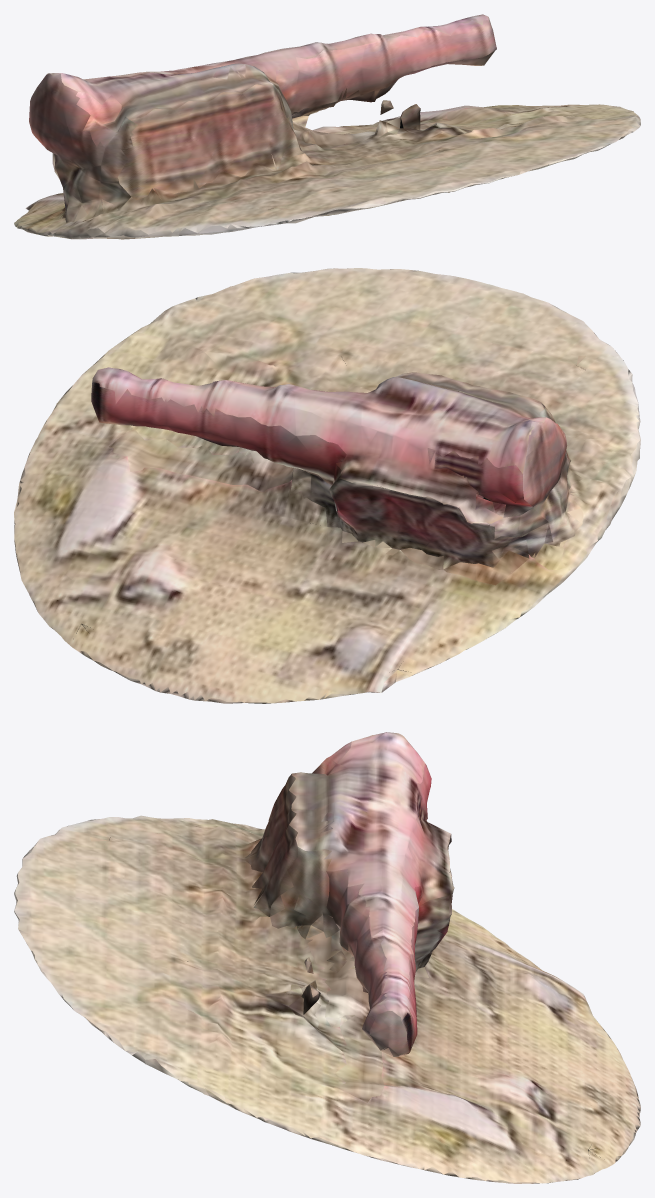
Rendered from canon.glb.
3 views of the same model, one above another, from view 1: azimuth 30°, elevation 25°; view 2: azimuth 150°, elevation 25°; view 3: azimuth 270°, elevation 25° (orthographic). The views are drawn at different scales.
Parts seen in each view (by area): view 1: world; view 2: world; view 3: world.
Part boxes in pixels (x1,y1,x2,y2): world: (14, 14, 640, 239); world: (14, 268, 640, 703); world: (14, 732, 640, 1183).
Size of the model in its own units: 0.7119 by 0.3039 by 0.6626.
Materials: 1 (1 with a texture image).
